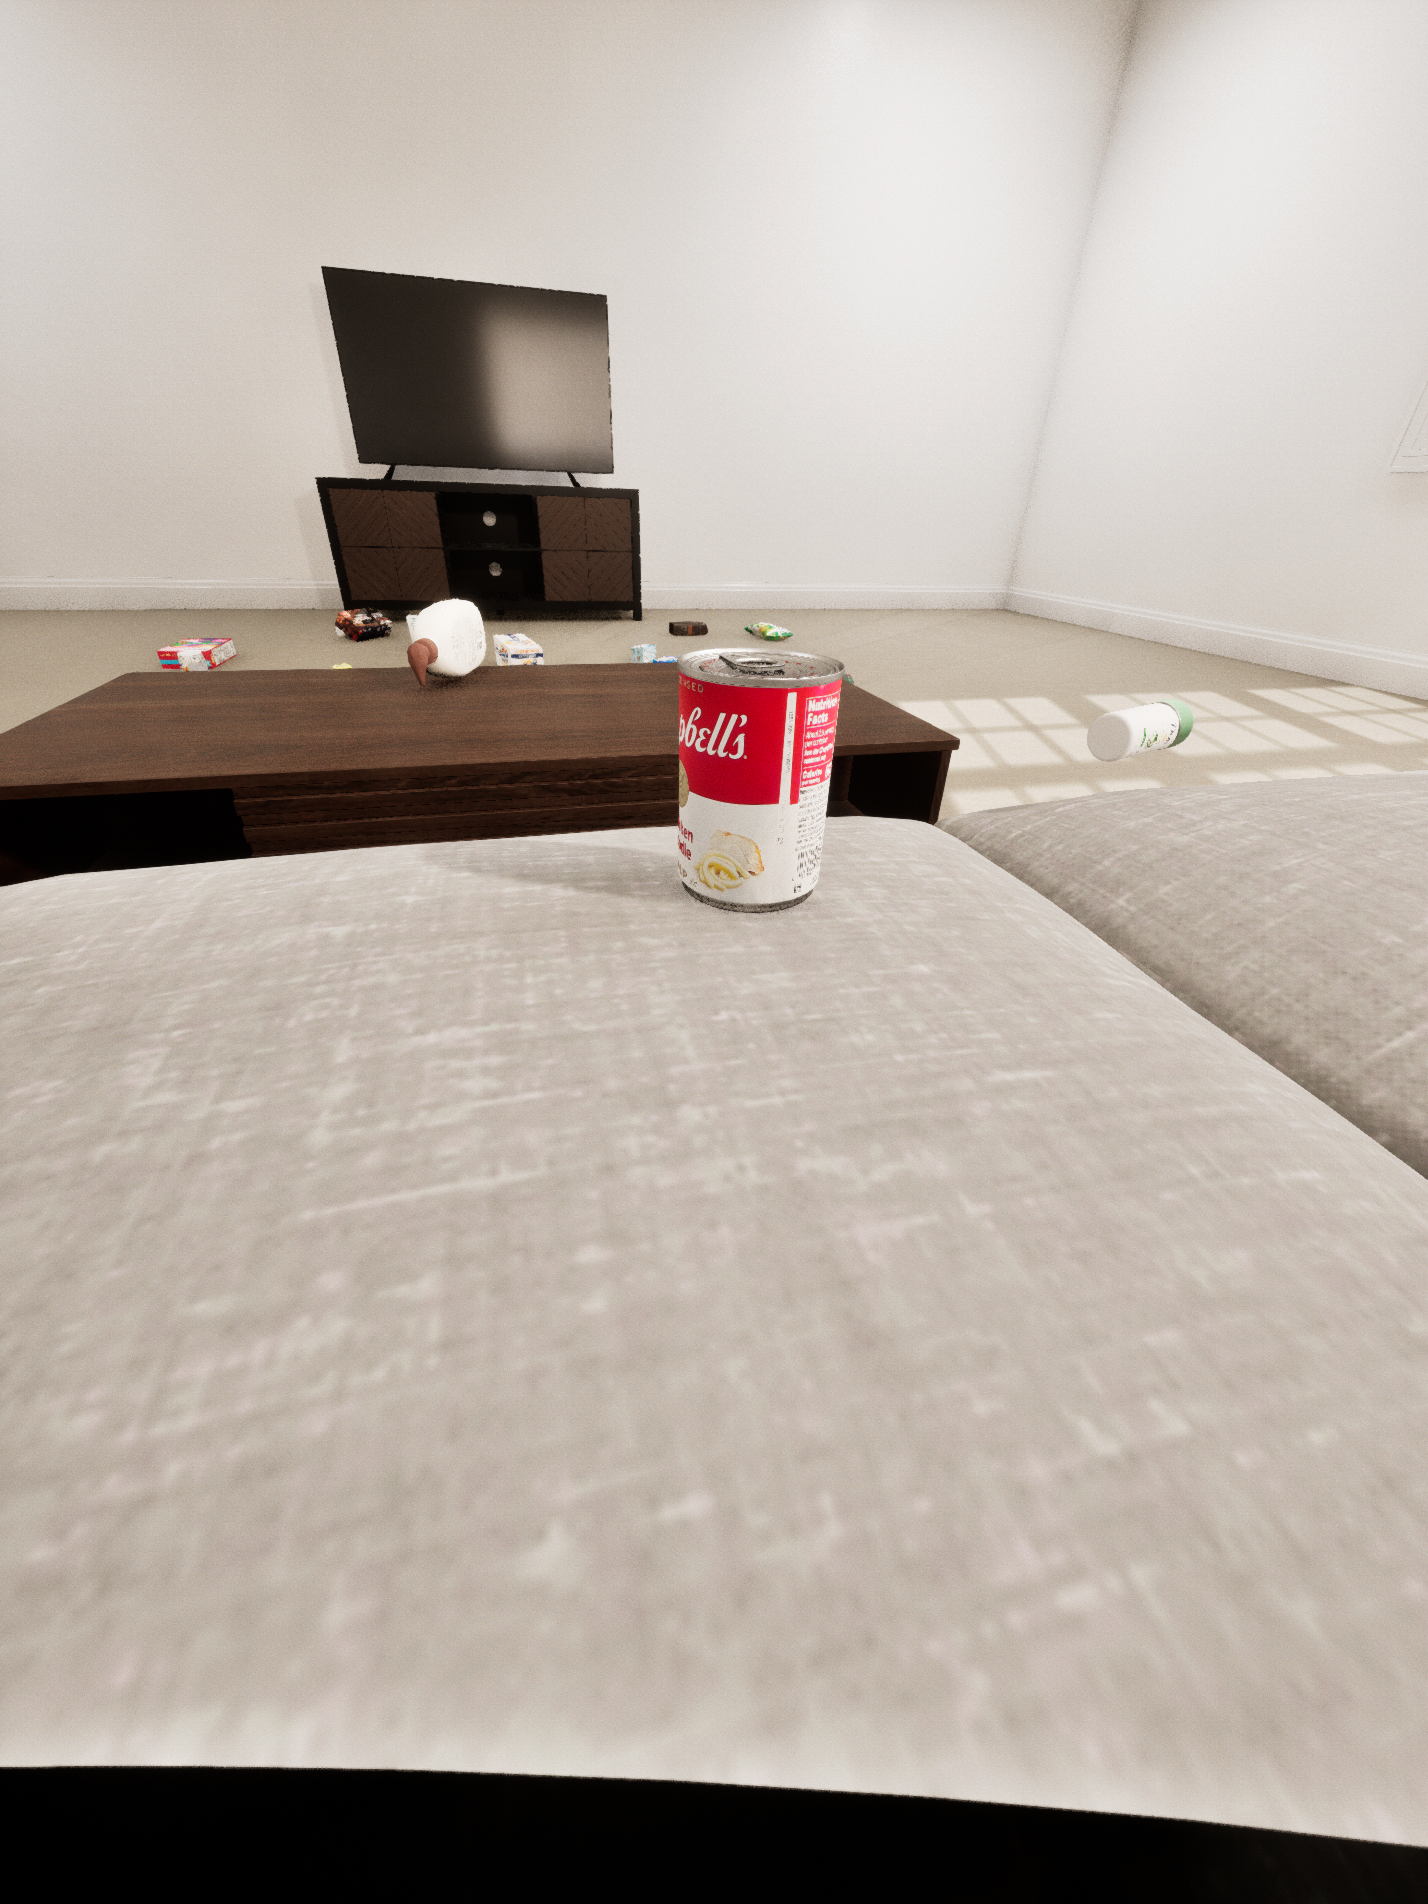soup: (676, 648, 844, 913)
